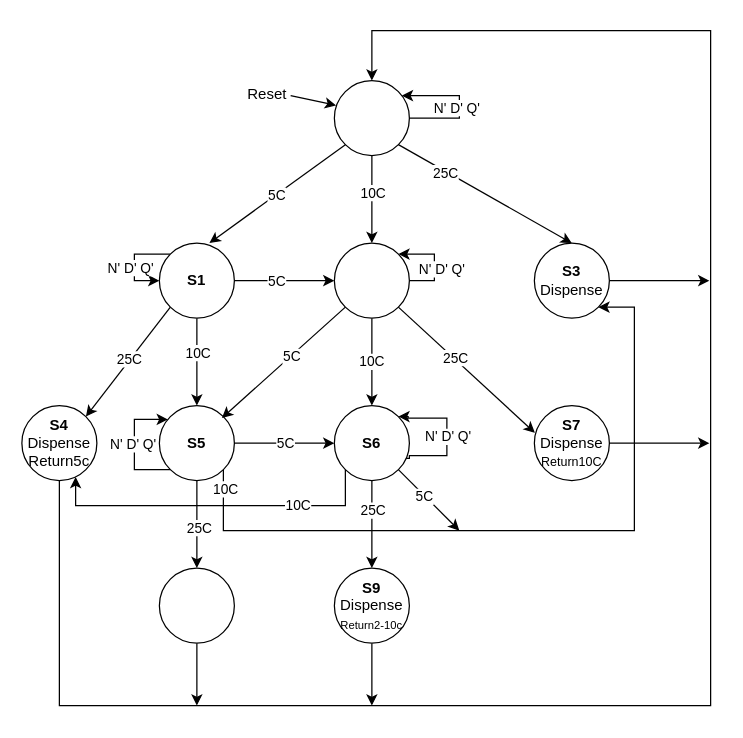
The diagram is 743 pixels wide and 738 high, and some of its shapes have lost their labels. Each missing label, with the centre of its shape:
S0: point 371,117
S2: point 371,280
S8 Dispense Return10c Return5c: point 196,605
